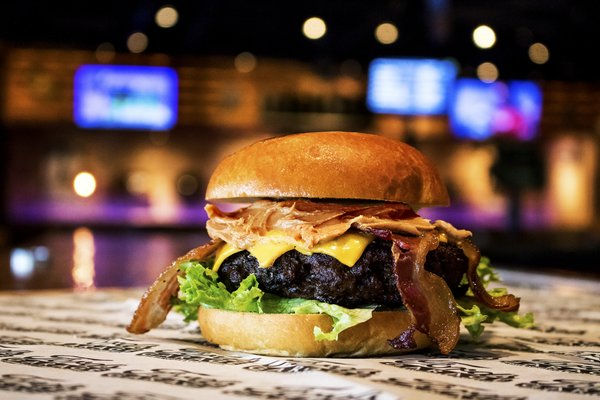soup: (126, 131, 521, 358)
